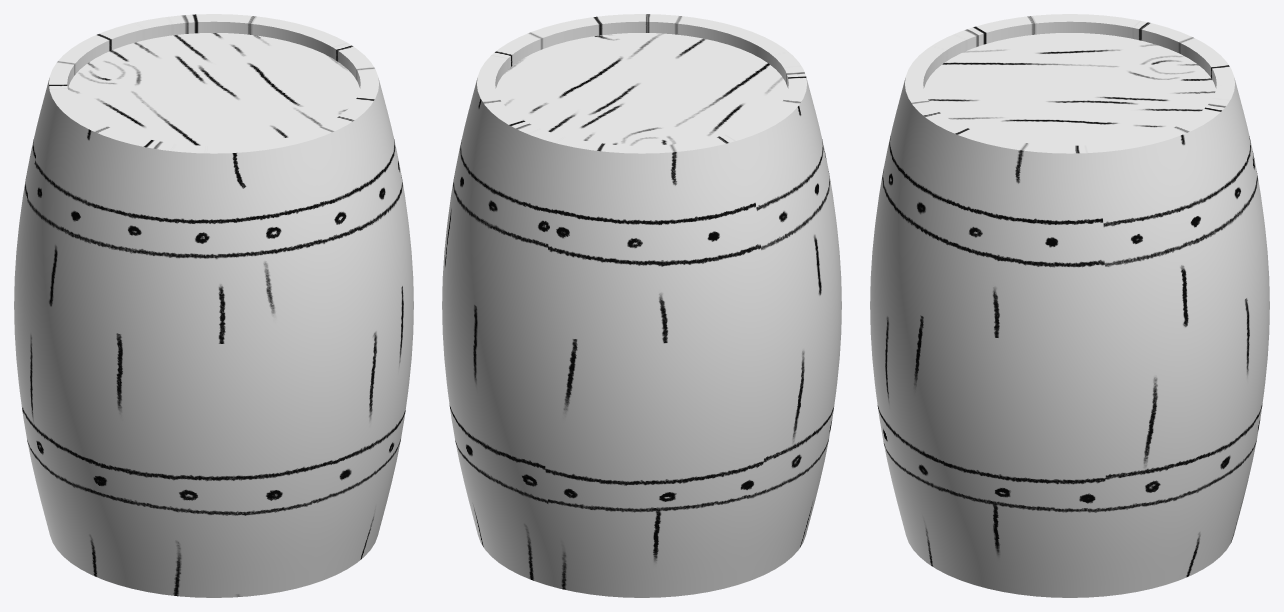
File: barel.obj
3 views of the same model, side by side, from view 1: azimuth 30°, elevation 25°; view 2: azimuth 150°, elevation 25°; view 3: azimuth 270°, elevation 25° (orthographic).
Visible parts, largest first — view 1: Cylinder.013; view 2: Cylinder.013; view 3: Cylinder.013.
Boxes of the visible parts, left/top/right/bottom form: Cylinder.013: left=14, top=14, right=413, bottom=597; Cylinder.013: left=442, top=14, right=841, bottom=597; Cylinder.013: left=870, top=14, right=1269, bottom=597.
Size of the model in its own units: 0.633 by 0.7765 by 0.633.
